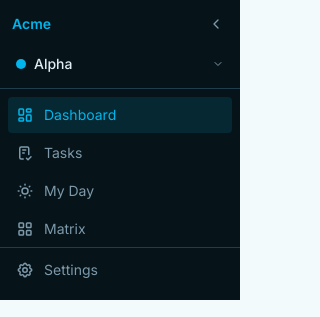
Test: Sidebar › collapses and hides text labels
Expected: the text "Dashboard" is shown, top-left (44, 105), bottom-right (116, 125)
Click the button named "Collapse sidebar" at {"x": 216, "y": 24}, box top-left (204, 12), bottom-right (228, 36)
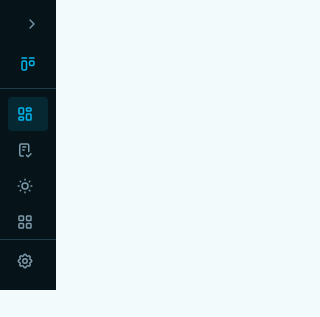
Expected: the link named "Dashboard" is shown, top-left (8, 97), bottom-right (48, 131)
Now the text "Dashboard" is gone
